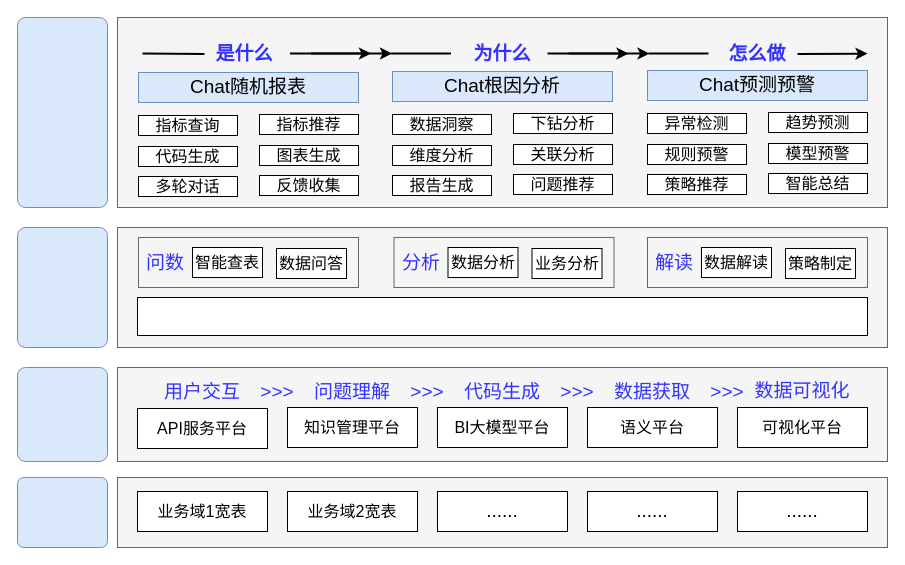
This 905x565 diagram has some shape labels left out. Each missing label, with the centre of its shape:
"Agent 智能体" belongs at (62,287).
"公共能力 自然语言问答 + 数据可视化 + 智能推荐 + 任务编排" belongs at (502,316).
"平台层" belongs at (62,414).
"应用层" belongs at (62,112).
"数据中台" belongs at (62,512).
